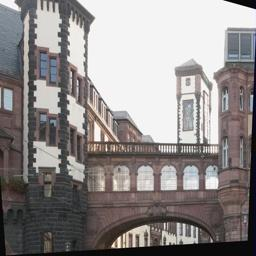building: (0, 0, 94, 256)
